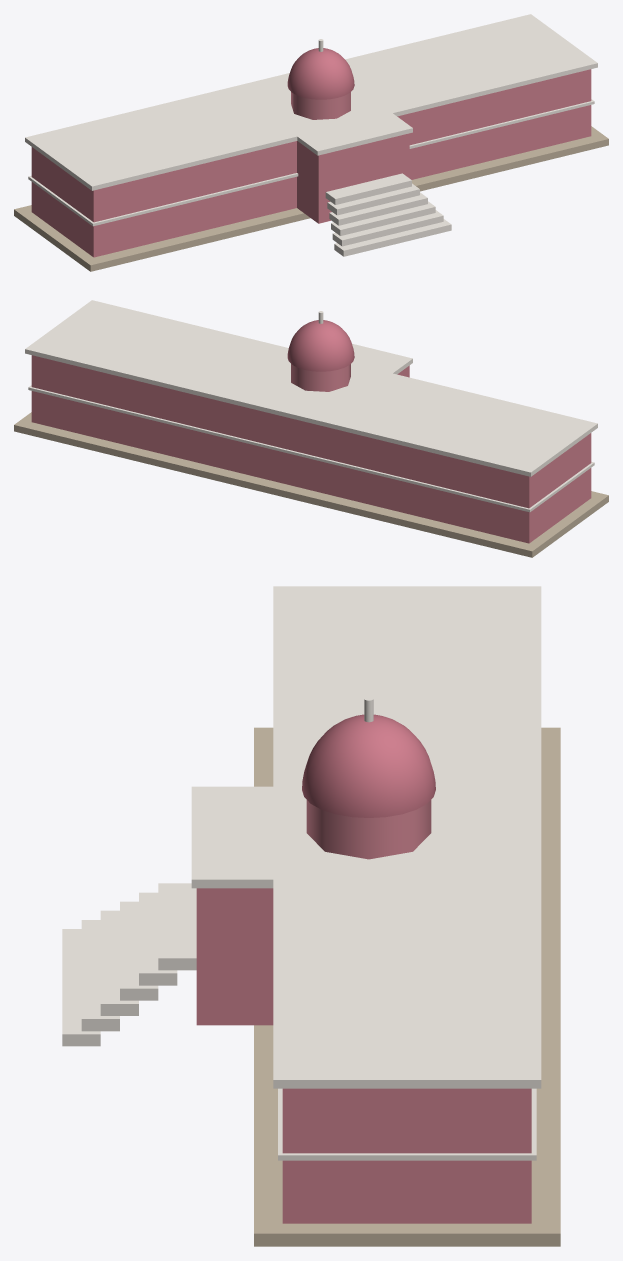
Rendered from ahsan-manzil.glb.
The picture shows the model from 3 angles, top to bottom: view 1: azimuth 30°, elevation 25°; view 2: azimuth 150°, elevation 25°; view 3: azimuth 270°, elevation 25°; orthographic projection. The views are drawn at different scales.
Visible parts, largest first — view 1: ahsan-manzil; view 2: ahsan-manzil; view 3: ahsan-manzil.
Part boxes in pixels (box(x1,y1,x2,y2)): ahsan-manzil: box(14, 14, 608, 271); ahsan-manzil: box(14, 300, 608, 557); ahsan-manzil: box(62, 586, 560, 1246).
Bounding box in the file's own units: 125 × 34 × 52.
